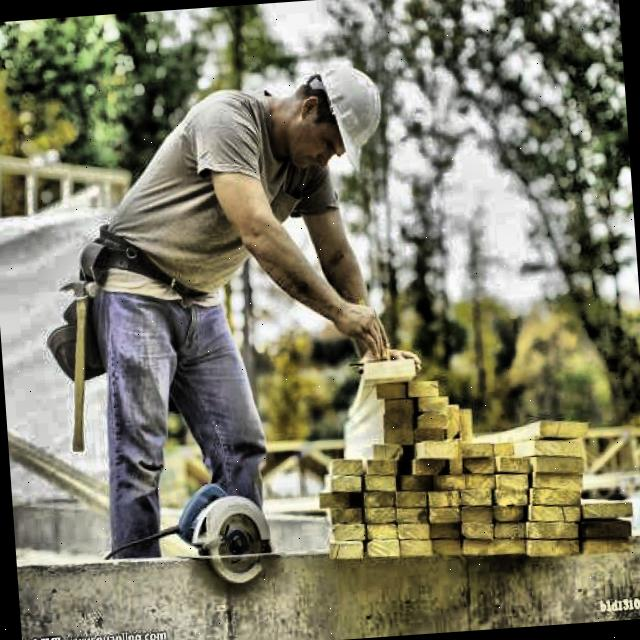helmet: (277, 56, 393, 182)
